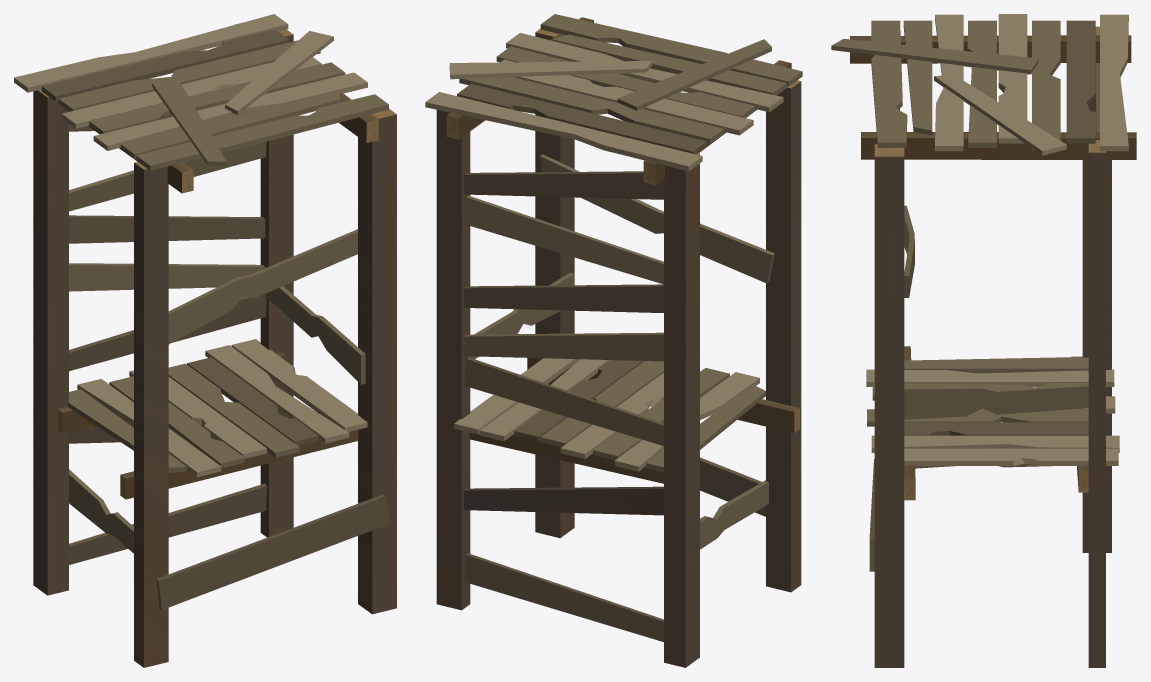
The model's file is Scaffold_3_LOD1.fbx.
3 renders of one model, left to right at view 1: azimuth 30°, elevation 25°; view 2: azimuth 150°, elevation 25°; view 3: azimuth 270°, elevation 25°, orthographic. The views are drawn at different scales.
Visible parts, largest first — view 1: polySurface9792; view 2: polySurface9792; view 3: polySurface9792.
Boxes of the visible parts, bbox=[...] form: polySurface9792: bbox=[14, 14, 396, 667]; polySurface9792: bbox=[425, 14, 802, 667]; polySurface9792: bbox=[831, 14, 1136, 667].
Bounding box in the file's own units: 386 × 670 × 352.
